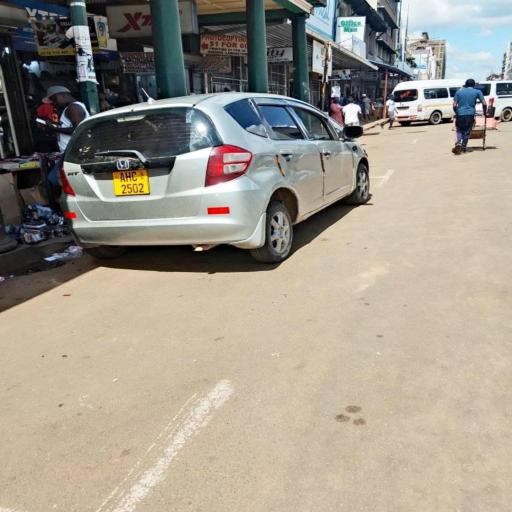number-plates: (111, 171, 151, 194)
